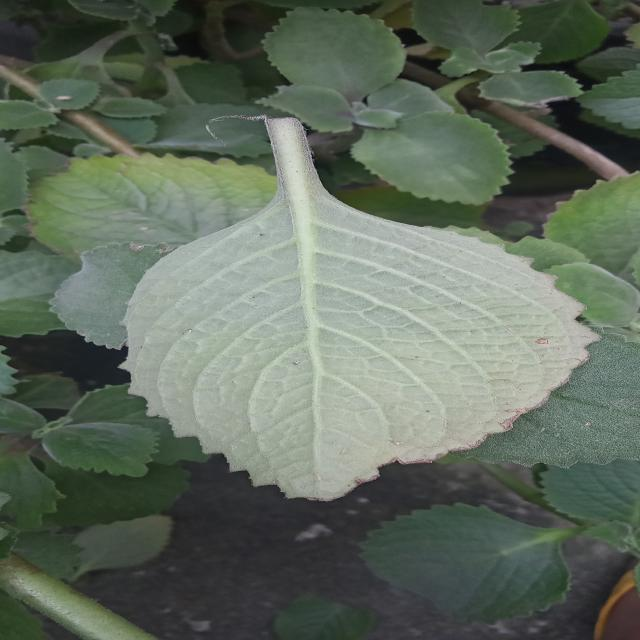Oregano: (83, 149, 623, 523)
